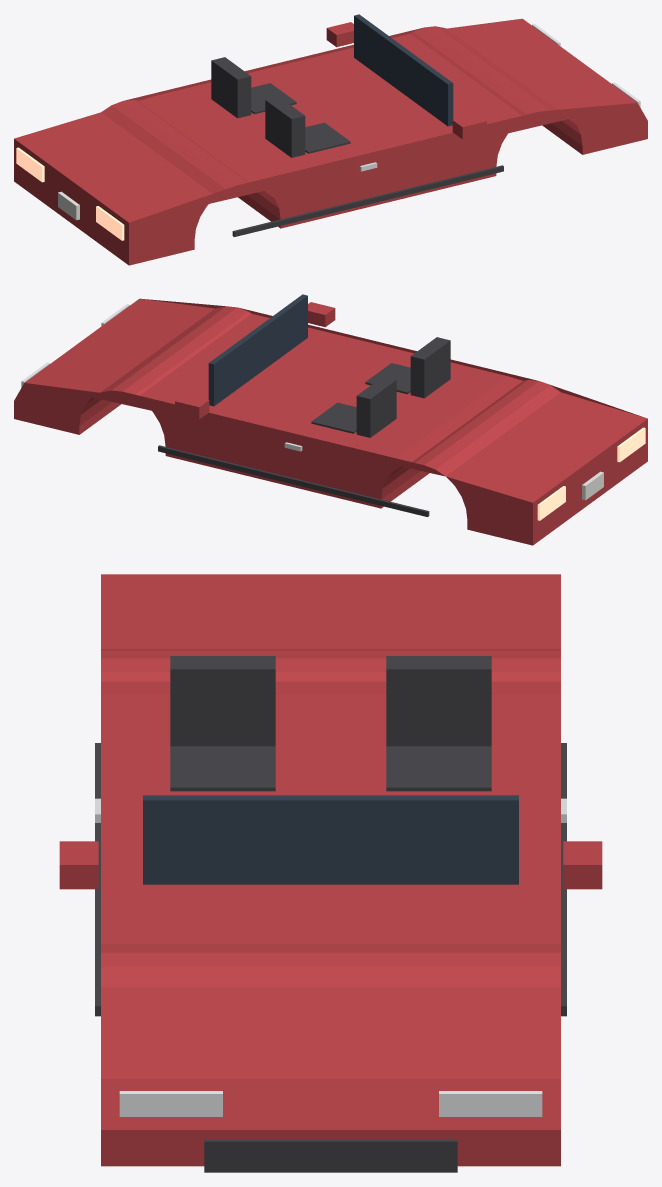
File: SM_Veh_Muscle_Open.fbx
3 renders of one model, top to bottom at view 1: azimuth 30°, elevation 25°; view 2: azimuth 150°, elevation 25°; view 3: azimuth 270°, elevation 25°, orthographic. The views are drawn at different scales.
Parts seen in each view (by area): view 1: SM_Veh_Muscle_Open; view 2: SM_Veh_Muscle_Open; view 3: SM_Veh_Muscle_Open.
Boxes of the visible parts, x1,y1,x2,y2 form: SM_Veh_Muscle_Open: [14, 14, 647, 265]; SM_Veh_Muscle_Open: [14, 294, 647, 545]; SM_Veh_Muscle_Open: [59, 574, 602, 1172].
Size of the model in its own units: 496 by 222 by 85.76.
